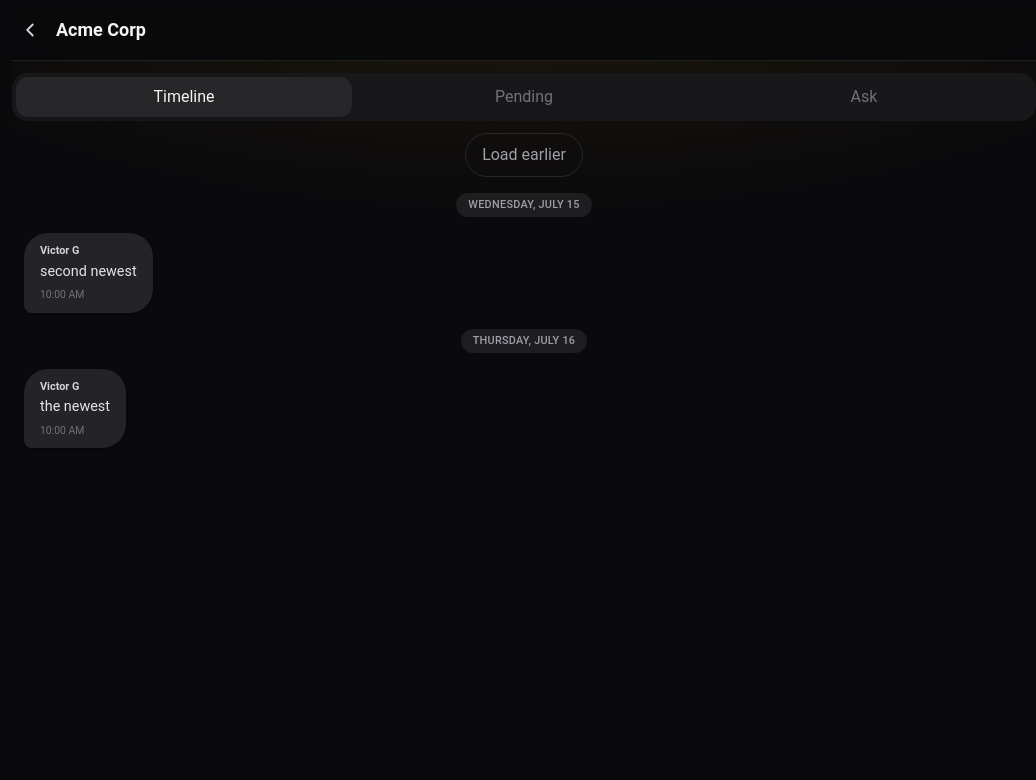
Scenario: CustomerScreen › keeps the thread chronological when older history is paged in
Click the button "Load earlier" at (524, 155), box x1=465 y1=133 x2=583 y2=177
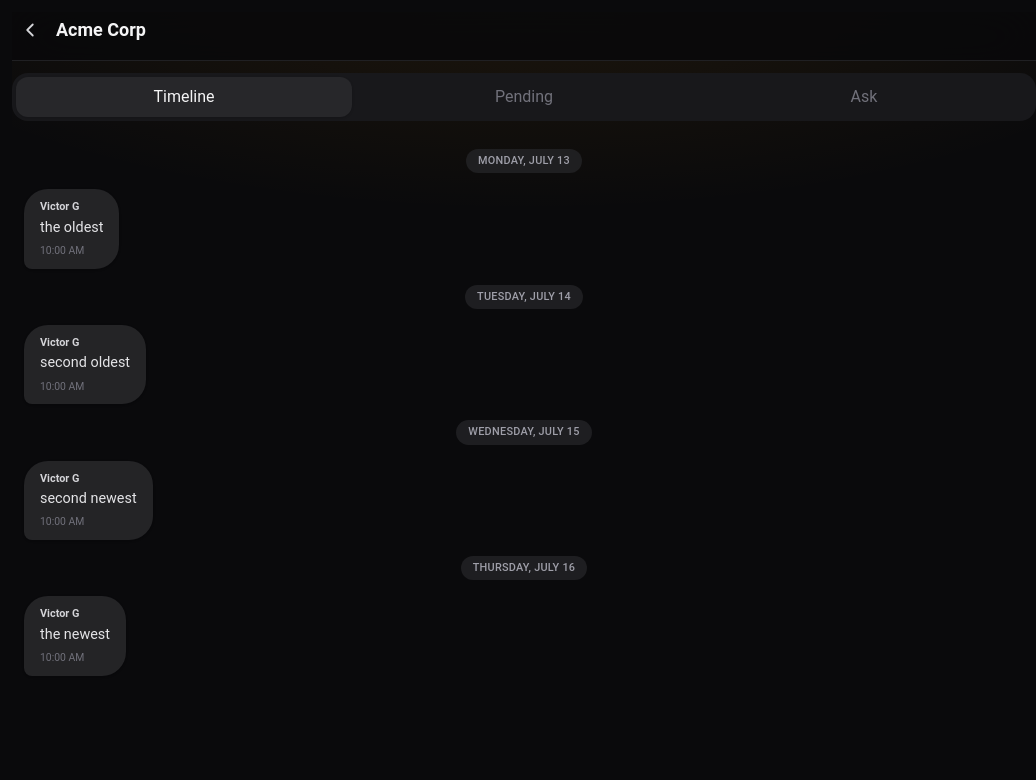
Now the text "the oldest" is shown, box x1=40 y1=216 x2=103 y2=239
